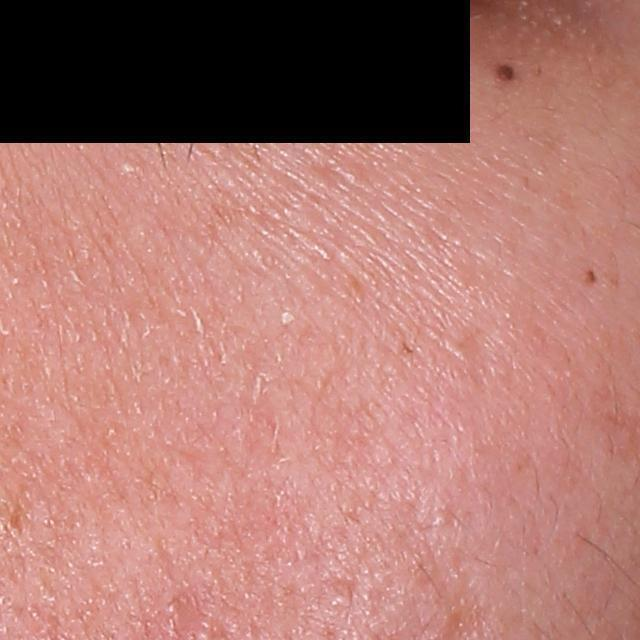comedo: (118, 156, 145, 180)
nevus: (489, 59, 523, 86), (583, 263, 603, 287)
